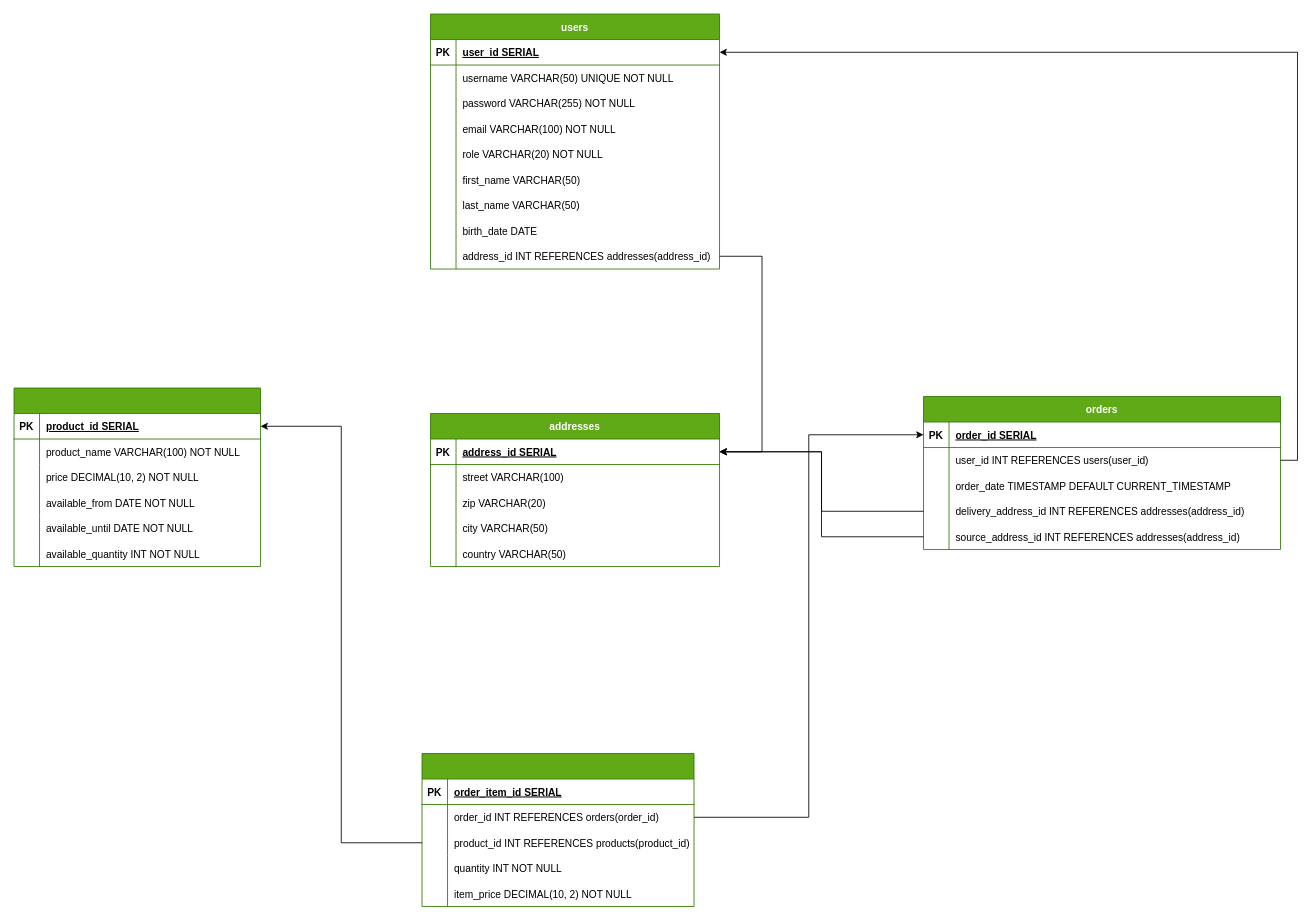
This 1312x921 diagram has some shape labels left out. Each missing label, with the box of its shape:
order_items: (421, 753, 694, 907)
products: (13, 387, 261, 567)
